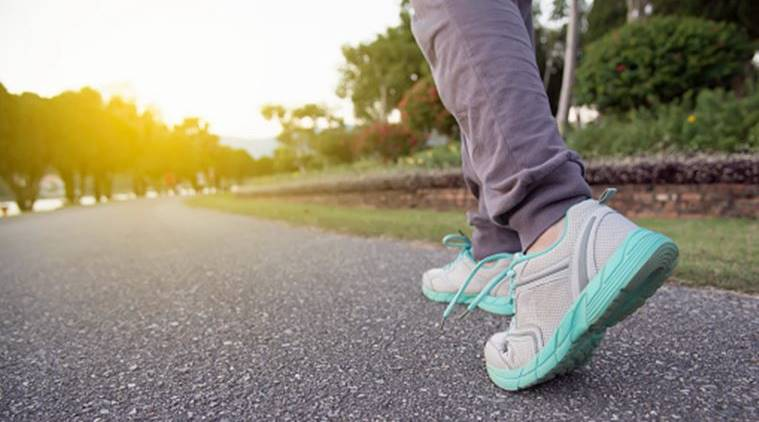feet: (404, 113, 689, 404)
